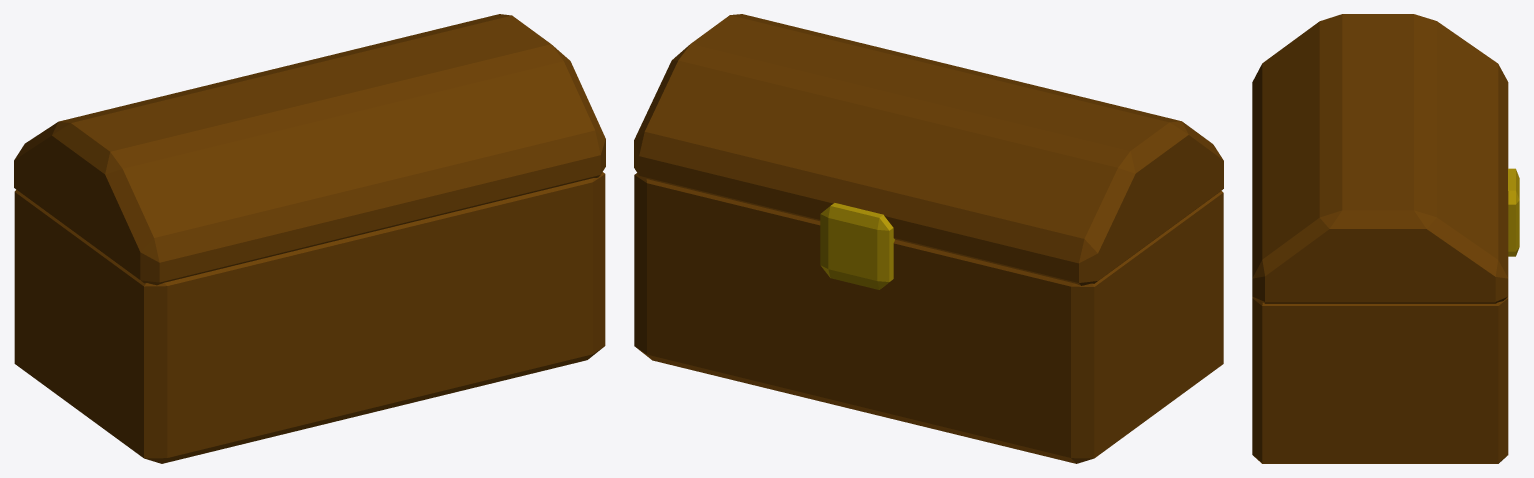
Rendered from chest.glb.
The picture shows the model from 3 angles, left to right: view 1: azimuth 30°, elevation 25°; view 2: azimuth 150°, elevation 25°; view 3: azimuth 270°, elevation 25°; orthographic projection. The views are drawn at different scales.
Visible parts, largest first — view 1: bottom chest, chest lid; view 2: bottom chest, chest lid, lock; view 3: chest lid, bottom chest, lock.
Part boxes in pixels (x1,y1,x2,y2): bottom chest: (14, 172, 605, 463); chest lid: (14, 14, 605, 285); bottom chest: (634, 173, 1223, 463); chest lid: (634, 14, 1223, 285); lock: (820, 203, 894, 289); chest lid: (1252, 14, 1508, 303); bottom chest: (1252, 297, 1508, 463); lock: (1508, 168, 1519, 256).
Size of the model in its own units: 3.83 by 2.22 by 2.09.
